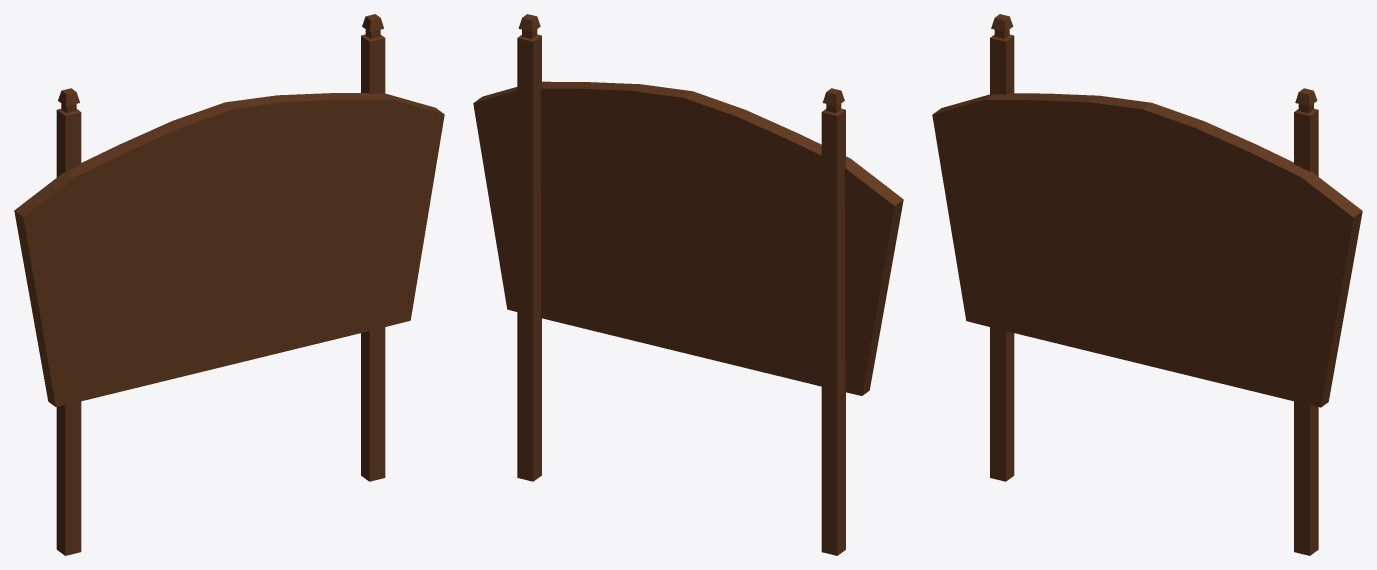
File: sign_for_controls.fbx
3 views of the same model, side by side, from view 1: azimuth 30°, elevation 25°; view 2: azimuth 150°, elevation 25°; view 3: azimuth 330°, elevation 25° (orthographic).
Visible parts, largest first — view 1: Cube, Plane.002, Plane.001; view 2: Cube, Plane.002, Plane.001; view 3: Cube, Plane.001, Plane.002.
Part boxes in pixels (left/top/right/bottom): Cube: left=14, top=93, right=444, bottom=406; Plane.002: left=56, top=88, right=81, bottom=555; Plane.001: left=361, top=14, right=385, bottom=481; Cube: left=473, top=81, right=903, bottom=395; Plane.002: left=821, top=88, right=845, bottom=555; Plane.001: left=517, top=14, right=541, bottom=481; Cube: left=932, top=93, right=1362, bottom=407; Plane.001: left=1294, top=88, right=1318, bottom=555; Plane.002: left=990, top=14, right=1014, bottom=481.
Bounding box in the file's own units: 2296 × 2393 × 155.
